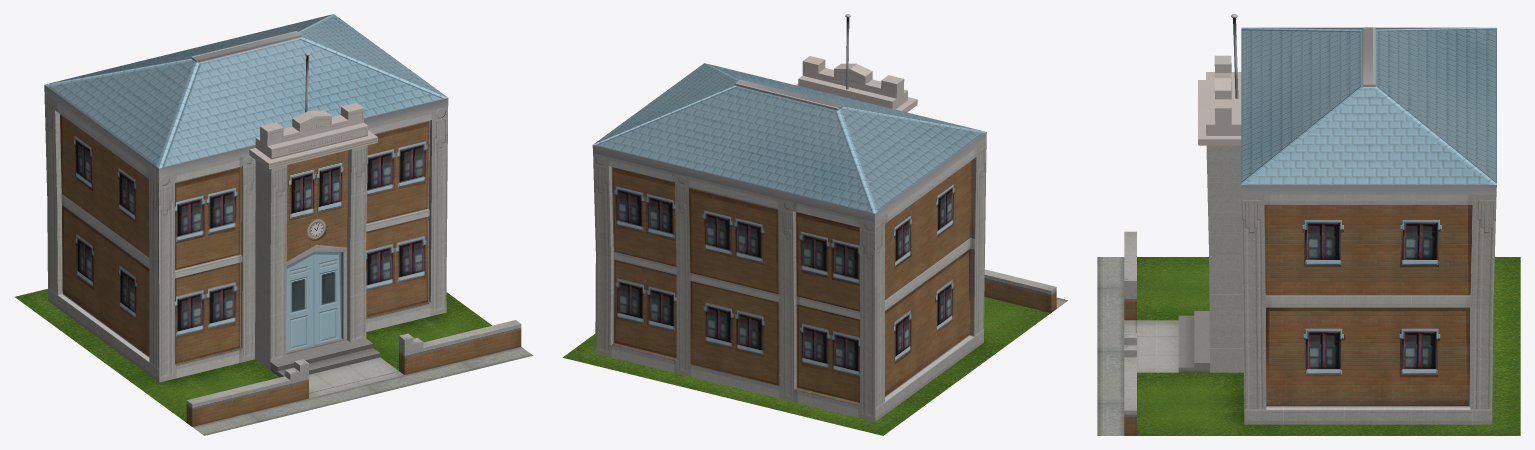
Rendered from School.fbx.
3 views of the same model, side by side, from view 1: azimuth 30°, elevation 25°; view 2: azimuth 150°, elevation 25°; view 3: azimuth 270°, elevation 25° (orthographic). The views are drawn at different scales.
Parts seen in each view (by area): view 1: school; view 2: school; view 3: school.
Boxes of the visible parts, x1,y1,x2,y2 form: school: [15, 14, 532, 435]; school: [563, 14, 1067, 435]; school: [1097, 14, 1520, 435].
Size of the model in its own units: 10 by 8.65 by 10.
Materials: 1 (1 with a texture image).
